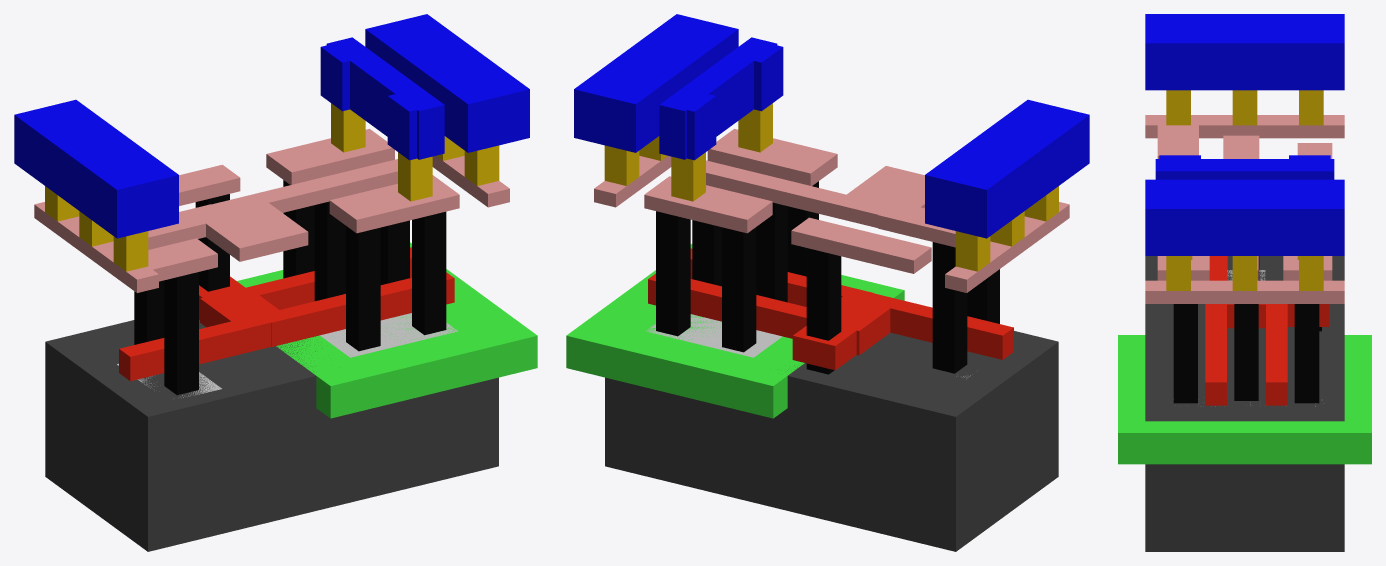
The model's file is sky130_fd_sc_hd__lpflow_clkinvkapwr_1.obj.
3 views of the same model, side by side, from view 1: azimuth 30°, elevation 25°; view 2: azimuth 150°, elevation 25°; view 3: azimuth 270°, elevation 25° (orthographic). The views are drawn at different scales.
Visible parts, largest first — view 1: subs, metal1, li, licon, nwell, poly, mcon, tap; view 2: subs, metal1, li, licon, nwell, poly, mcon, tap; view 3: metal1, subs, nwell, li, licon, poly, mcon.
Boxes of the visible parts, bbox=[...] form: subs: bbox=[45, 319, 498, 551]; metal1: bbox=[14, 14, 529, 238]; li: bbox=[34, 129, 509, 292]; licon: bbox=[134, 180, 446, 395]; nwell: bbox=[237, 242, 537, 418]; poly: bbox=[119, 247, 454, 381]; mcon: bbox=[45, 103, 499, 271]; tap: bbox=[320, 313, 457, 357]; subs: bbox=[605, 331, 1058, 551]; metal1: bbox=[574, 14, 1089, 238]; li: bbox=[594, 129, 1069, 292]; licon: bbox=[656, 181, 999, 374]; nwell: bbox=[566, 244, 904, 418]; poly: bbox=[648, 248, 1013, 370]; mcon: bbox=[604, 103, 1058, 271]; tap: bbox=[646, 314, 782, 357]; metal1: bbox=[1145, 14, 1344, 255]; subs: bbox=[1145, 256, 1344, 551]; nwell: bbox=[1118, 335, 1371, 464]; li: bbox=[1145, 115, 1344, 303]; licon: bbox=[1173, 256, 1321, 403]; poly: bbox=[1205, 256, 1329, 405]; mcon: bbox=[1166, 90, 1323, 290].
Size of the model in its own units: 3.2 by 2.74 by 1.76.
